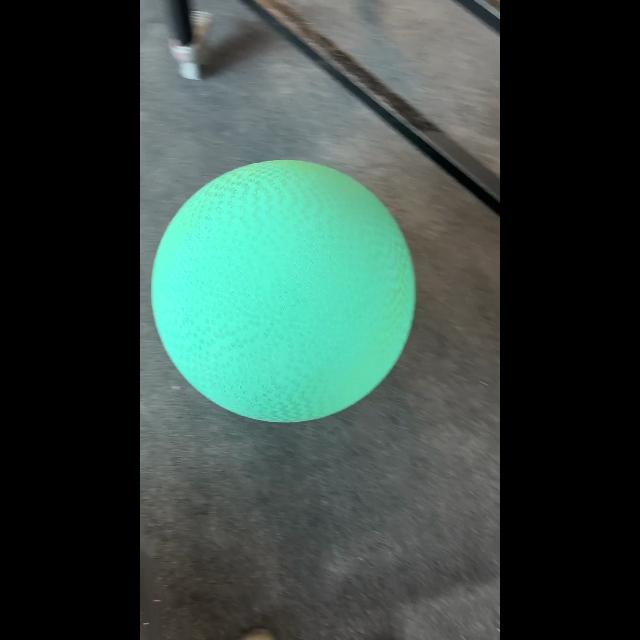ALGAE: (150, 158, 416, 424)
